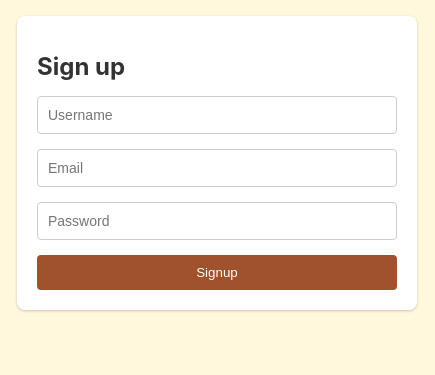
Scenario: SignUp Component › successful signup
Type "testuser" into the field with placeholder "Username".
click(217, 115); type("testuser")  # box [37, 96, 397, 134]
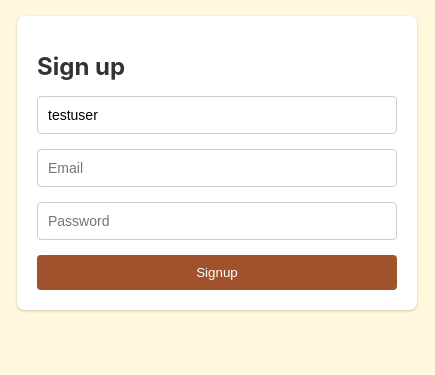
Type "test@example.com" into the field with placeholder "Email".
click(217, 168); type("test@example.com")  # box [37, 149, 397, 187]
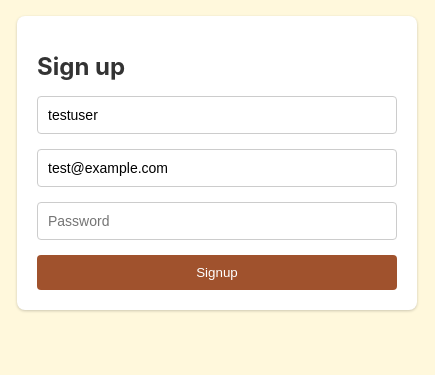
Type "testpassword" into the password field with placeholder "Password".
click(217, 221); type("testpassword")  # box [37, 202, 397, 240]
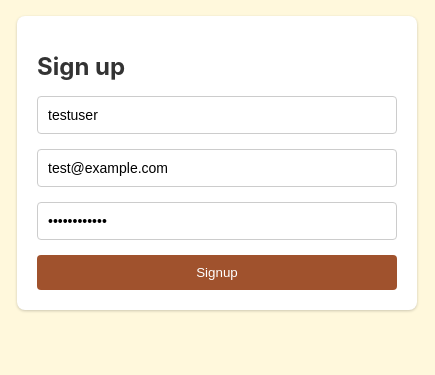
Click the button "Signup".
click(217, 273)  # box [37, 255, 397, 290]
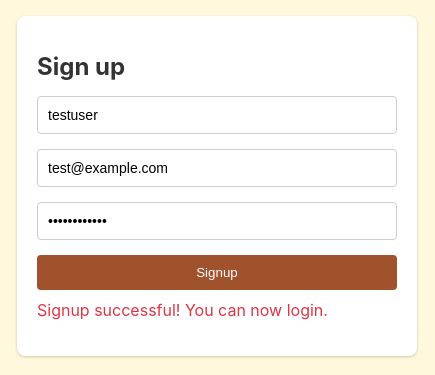
Check: the text "Signup successful! You can now login." is shown, box [37, 300, 328, 320]
